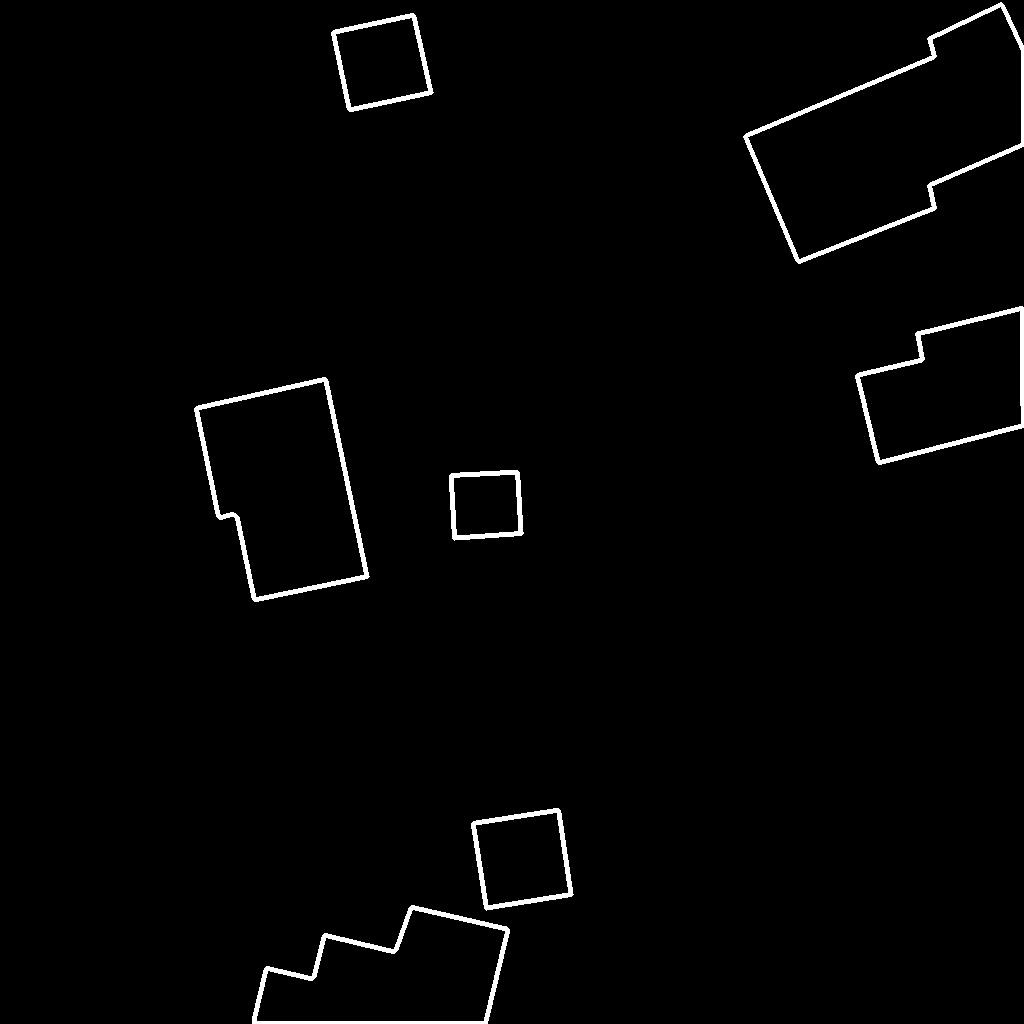building: (745, 4, 1024, 263), (196, 379, 368, 601), (254, 907, 509, 1024), (857, 308, 1024, 464), (473, 810, 572, 909), (333, 15, 432, 111), (451, 472, 522, 539)
